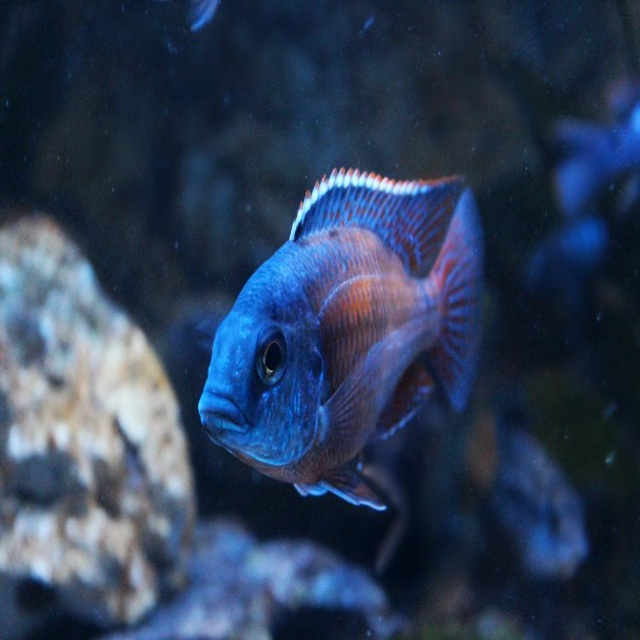Fish: (199, 145, 494, 545)
